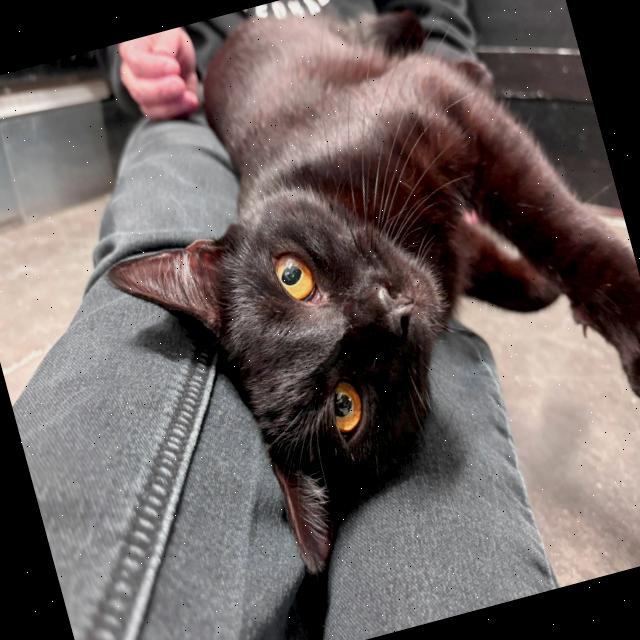bombay_cat: (90, 148, 510, 610)
